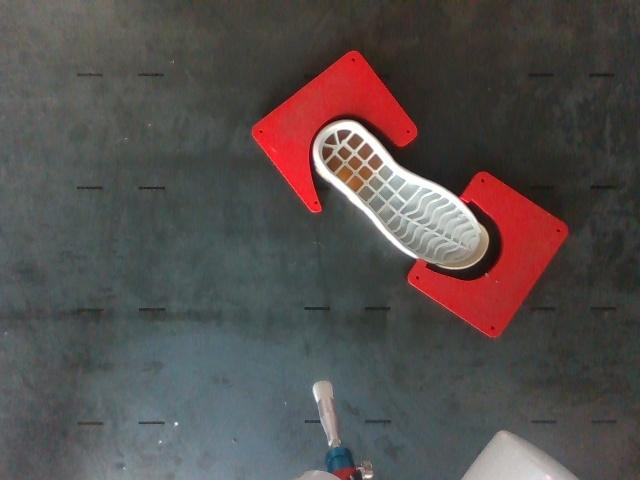shoes: (318, 121, 487, 267)
